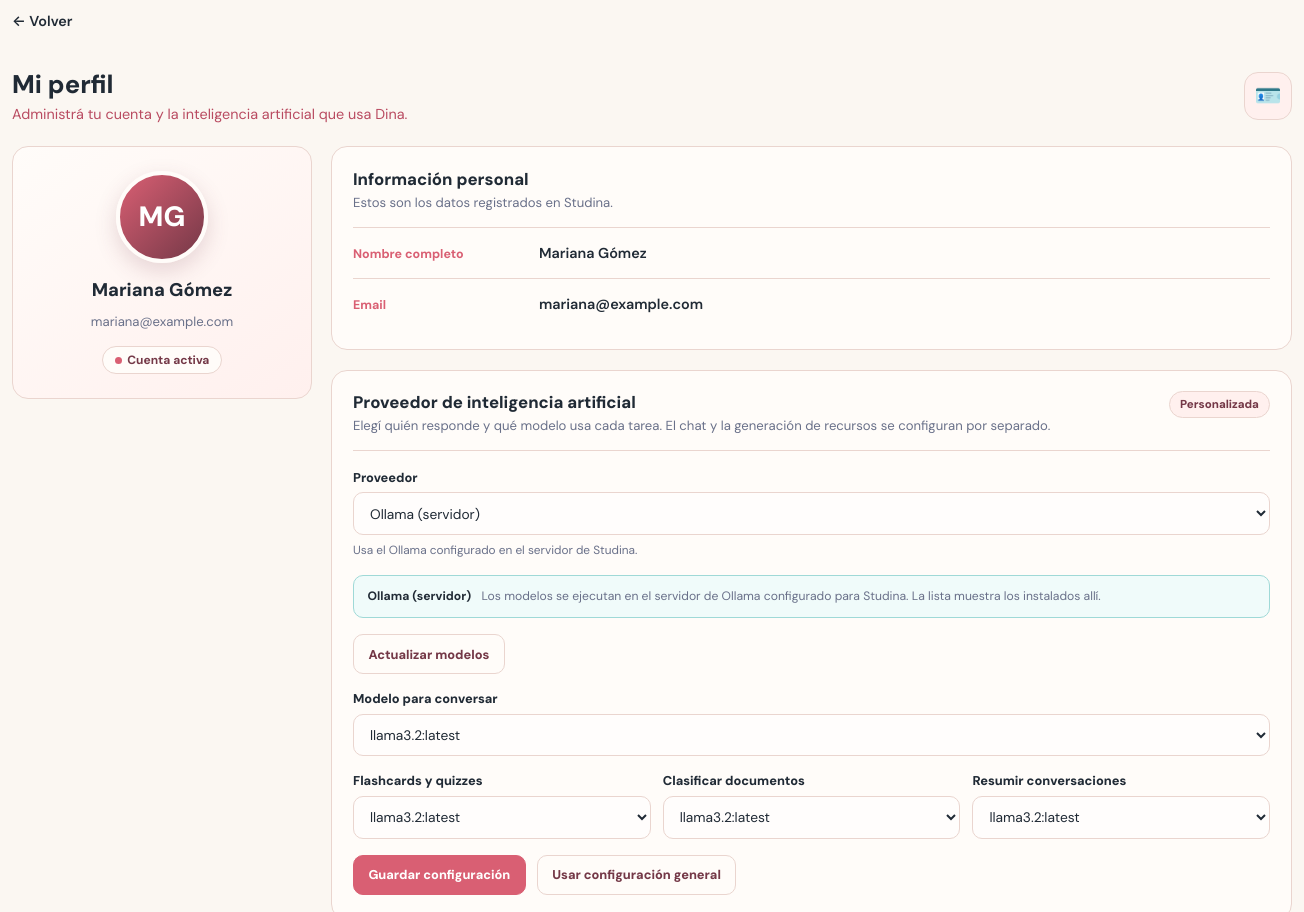
Scenario: ProfilePage AI settings › reconoce las etiquetas latest sin cambiar la configuración guardada
Expected: the dropdown labelled "Modelo para conversar" shows "llama3.2:latest", left=353, top=714, right=1270, bottom=756
Step 1. Click the button "Guardar configuración" → (439, 875), box left=353, top=855, right=526, bottom=895
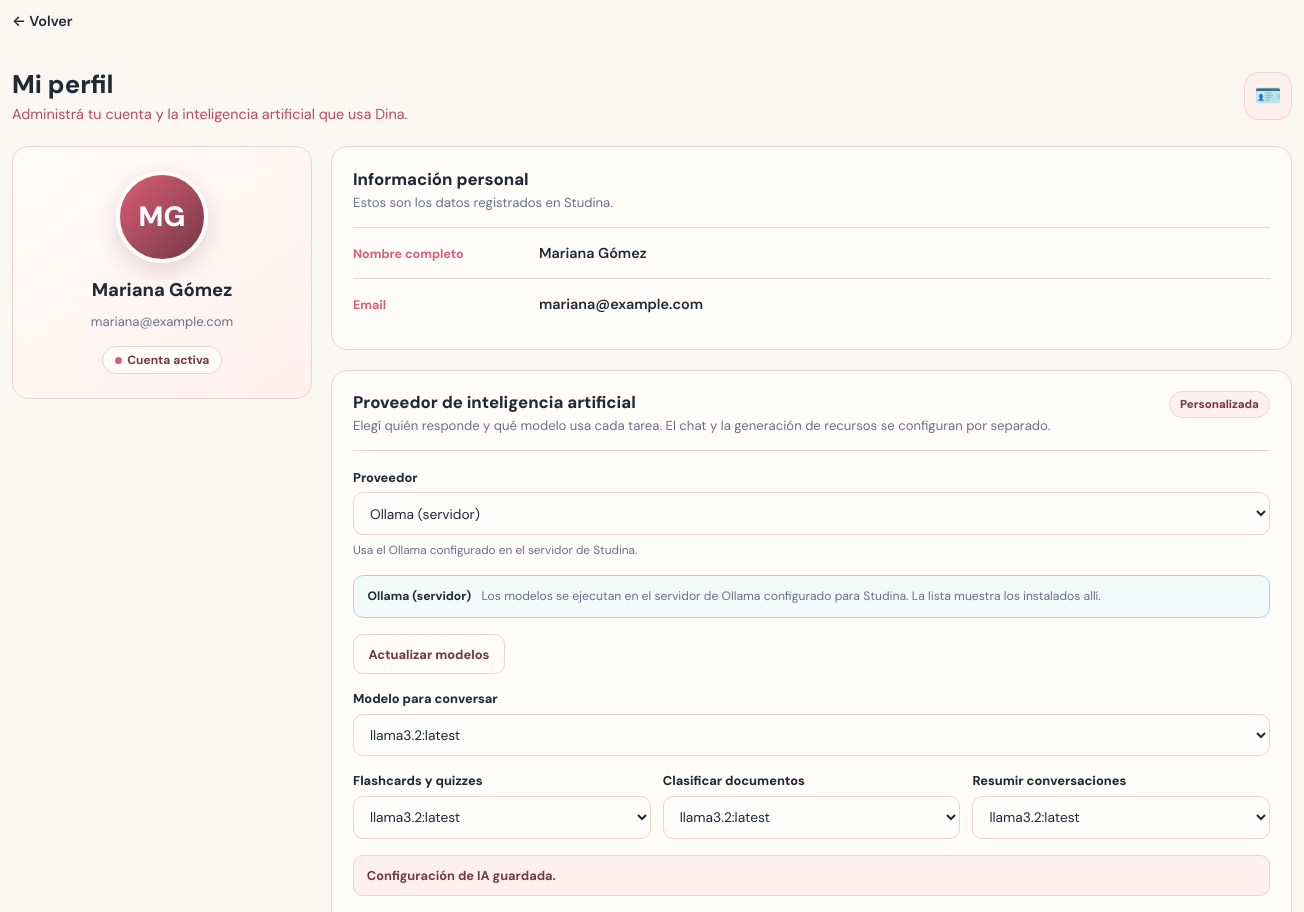
Expected: the text "Configuración de IA guardada." is shown, left=353, top=855, right=1270, bottom=896
